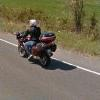Motorcycle: (7, 18, 63, 76)
